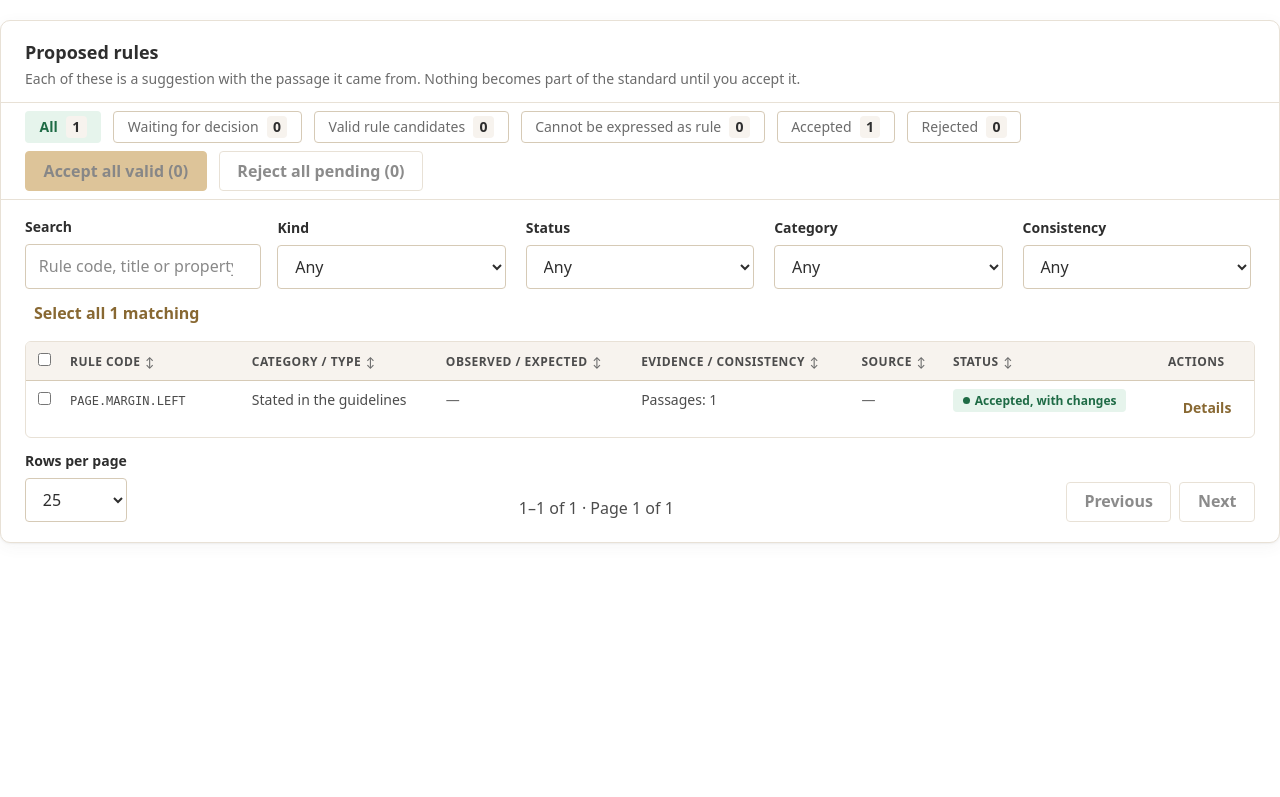
the proposal review screen › shows a decided proposal as decided, and offers no second decision
Click the button "Details": (1207, 409) [1168,389,1246,429]
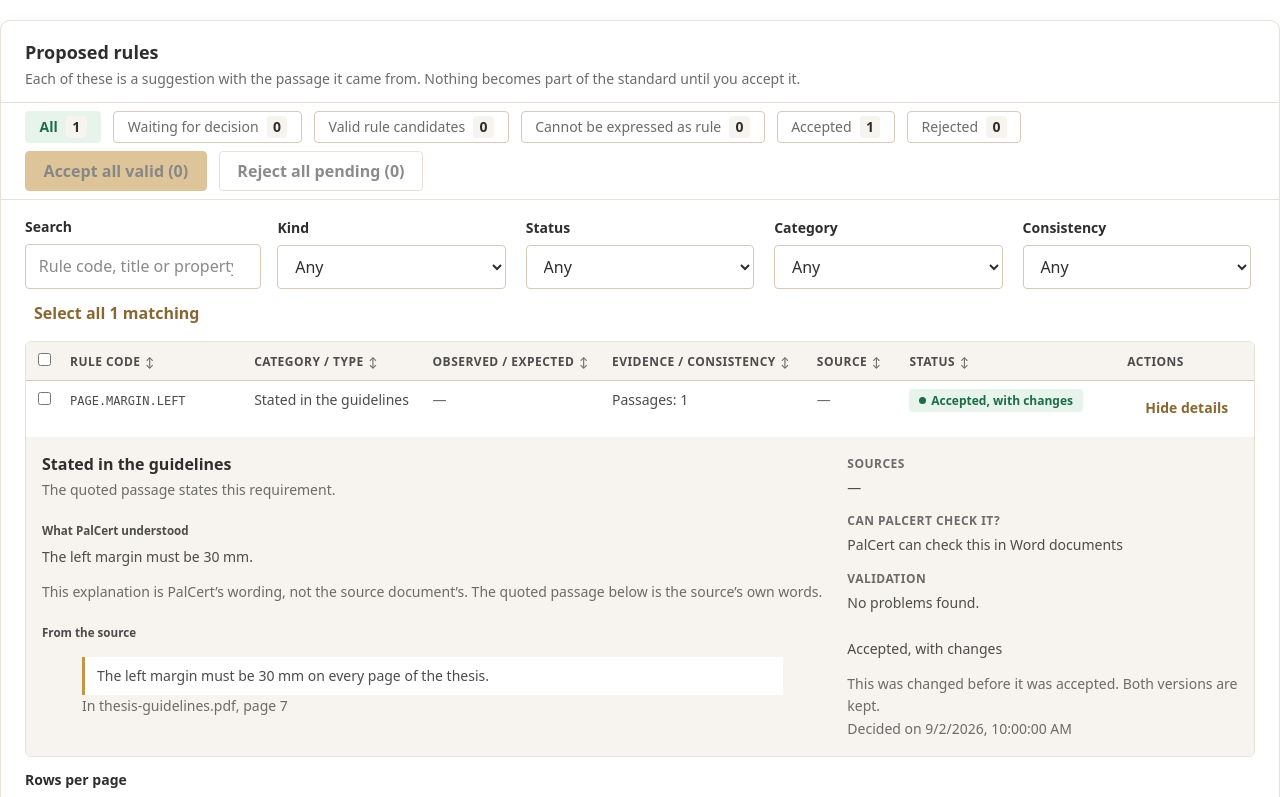
Expected: the text "Accepted, with changes" is shown, [910,389,1083,412]
Expected: the text "This was changed before it was accepted. Both versions are kept." is shown, [847,673,1238,718]
